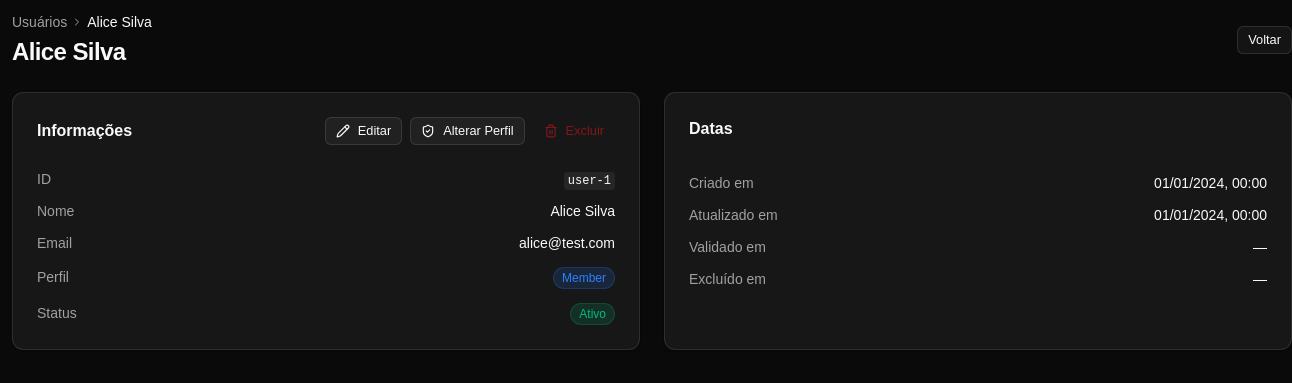
it: UserDetailPage — edição › botão Editar exibe formulário inline
Click the button "Editar".
click(364, 131)  # box [325,117,402,145]
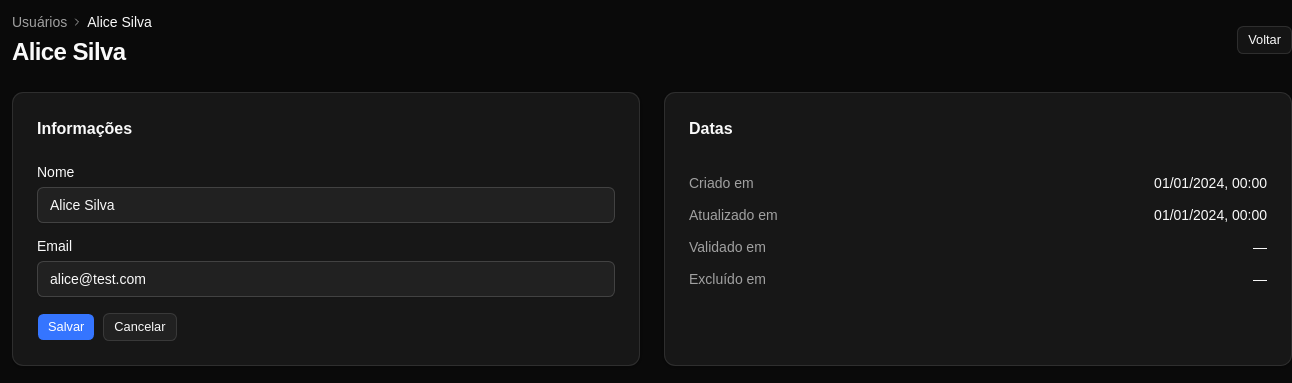
Expected: the field labelled "Nome" is shown, [37,187,615,223]
Expected: the field labelled "Email" is shown, [37,261,615,297]
